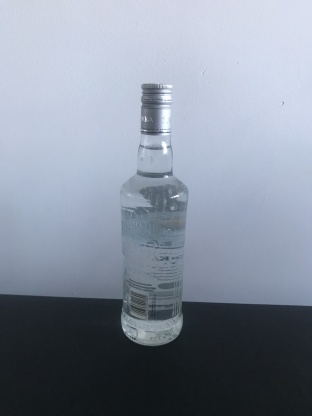nakretka: (139, 81, 173, 137)
